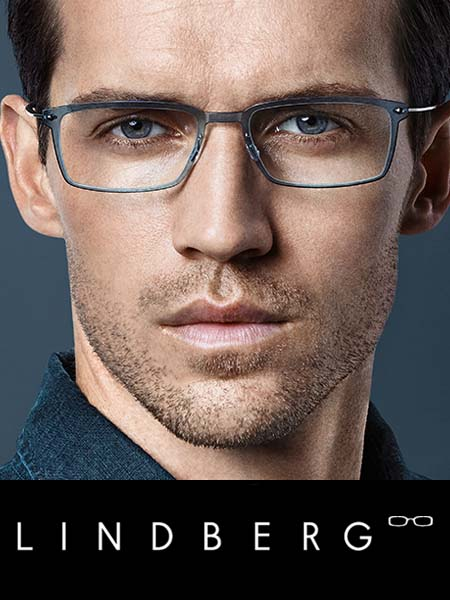llen: (248, 102, 393, 186)
rlen: (57, 105, 200, 190)
